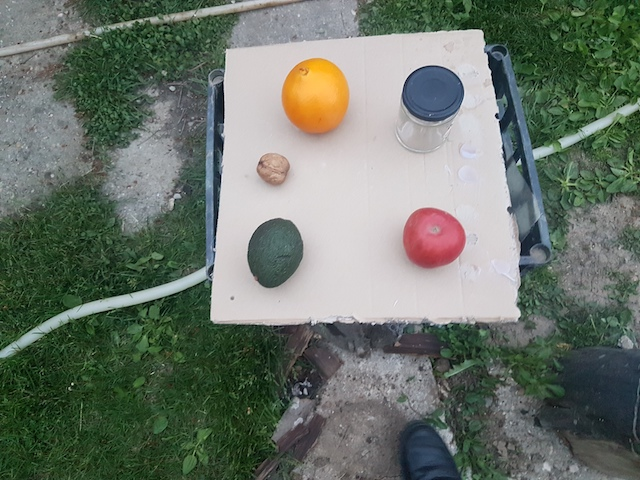apple: (403, 206, 466, 268)
avocado: (248, 217, 303, 287)
nut: (256, 153, 290, 185)
orange: (279, 58, 348, 133)
recipient: (398, 63, 465, 121)
